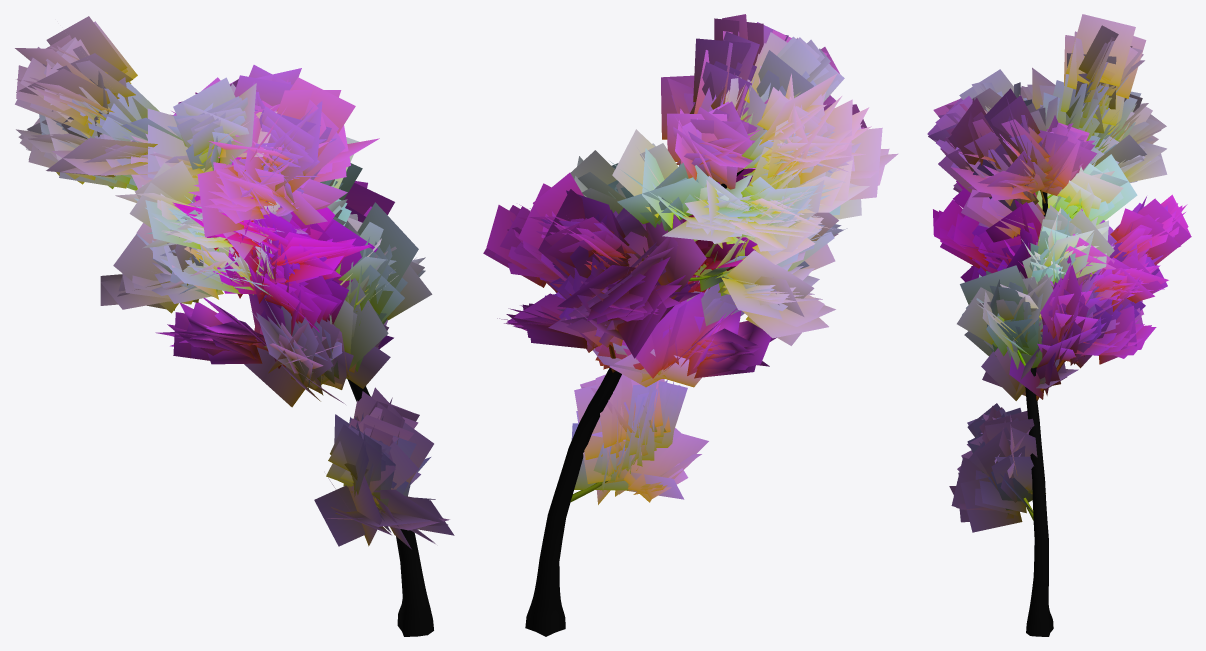
File: tree_ginkgo_b_gold.glb
3 views of the same model, side by side, from view 1: azimuth 30°, elevation 25°; view 2: azimuth 150°, elevation 25°; view 3: azimuth 270°, elevation 25° (orthographic). The views are drawn at different scales.
Visible parts, largest first — view 1: tree_ginkgo_b_gold; view 2: tree_ginkgo_b_gold; view 3: tree_ginkgo_b_gold.
Boxes of the visible parts, left/top/right/bottom form: tree_ginkgo_b_gold: left=15, top=16, right=454, bottom=636; tree_ginkgo_b_gold: left=483, top=14, right=898, bottom=636; tree_ginkgo_b_gold: left=927, top=14, right=1191, bottom=636.
Size of the model in its own units: 10.02 by 16.74 by 8.03.
